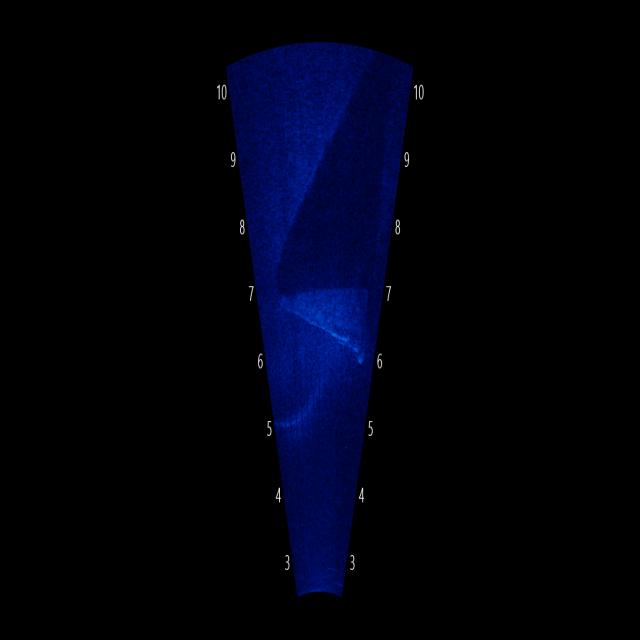triangle: (275, 279, 376, 373)
